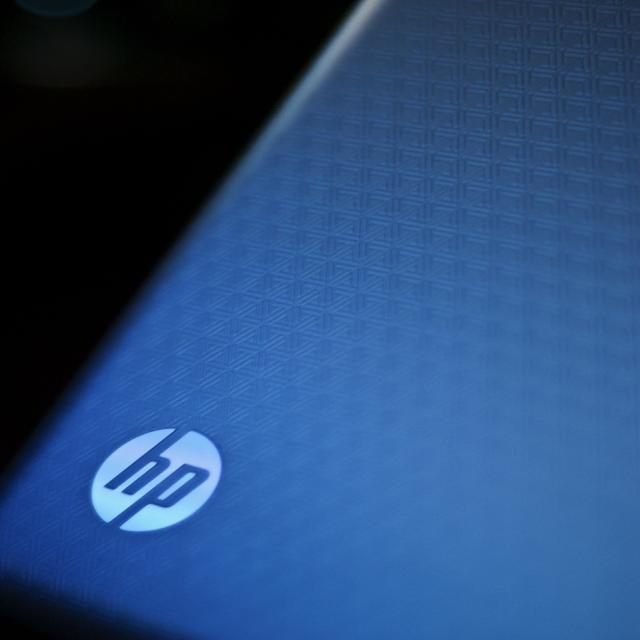HP: (87, 426, 227, 535)
